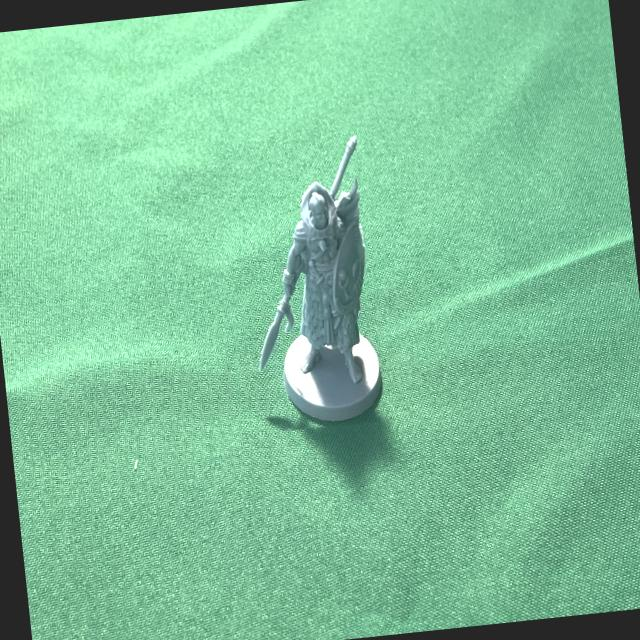isis_follower: (218, 130, 392, 434)
